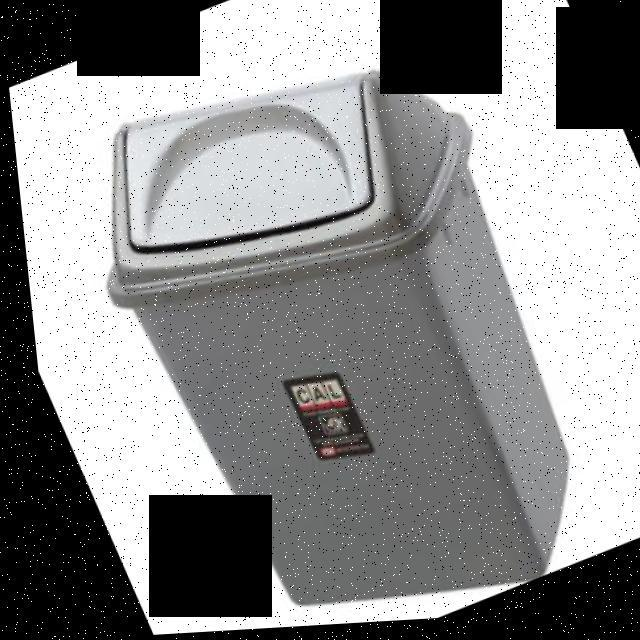bin: (19, 0, 640, 639)
